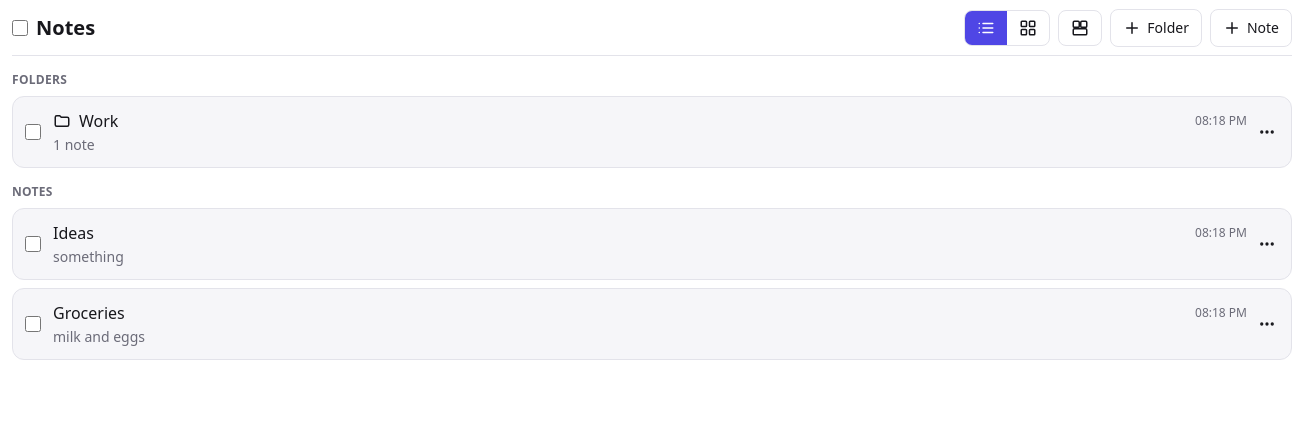
exporting the selection › downloads one Markdown file with the chosen notes and folders, with headings
Expected: the button "Export" is not shown
Click the checkbox named "Select Work" at (33, 132), box [25,124,41,140]
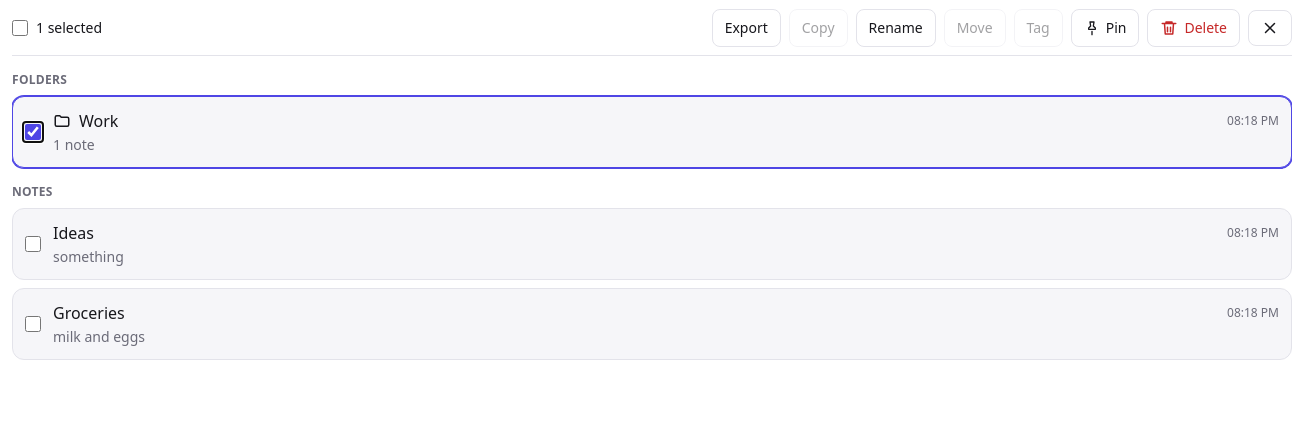
Click the checkbox named "Select Groceries" at (33, 324), box [25,316,41,332]
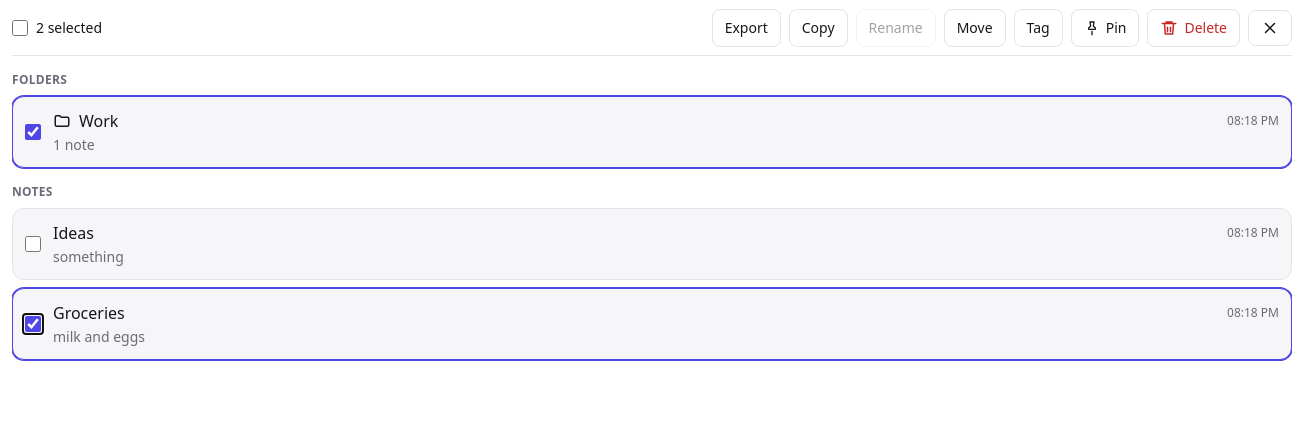
Click the button "Export" at (746, 28), box [712,8,781,46]
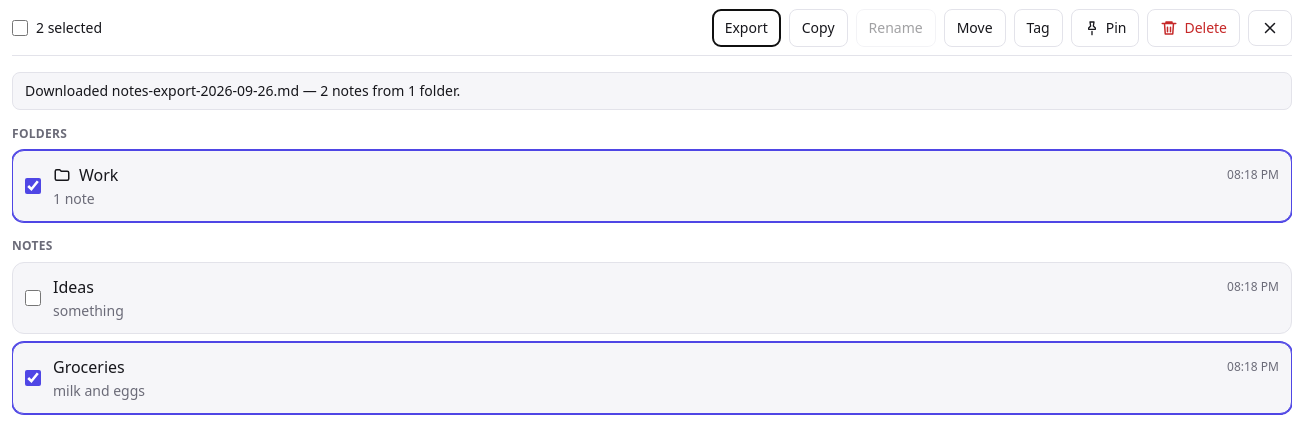
Result: the text "Downloaded notes-export-2026-09-26.md — 2 notes from 1 folder." is shown at [12,72,1292,110]
